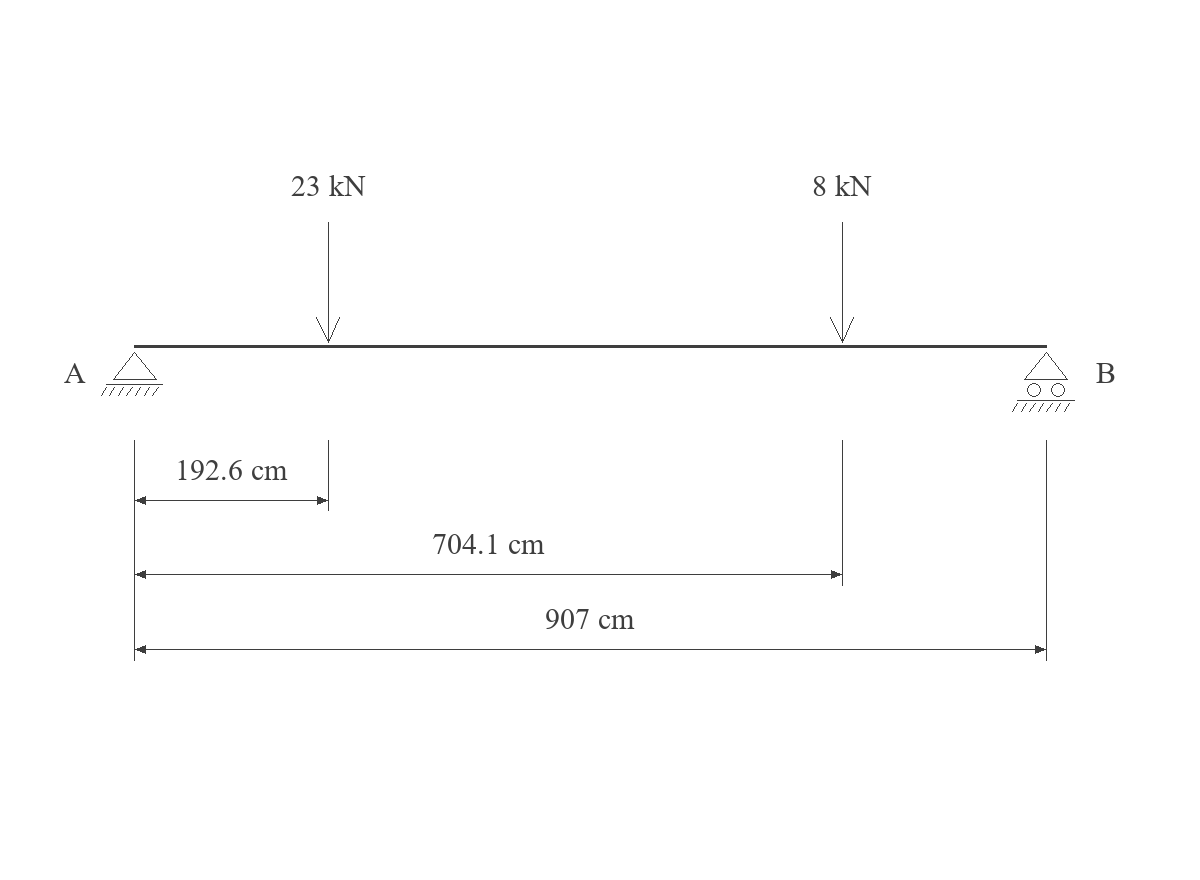pin_support: (101, 352, 163, 396)
point_load: (316, 222, 340, 343), (830, 222, 854, 343)
roller_support: (1012, 352, 1075, 412)
